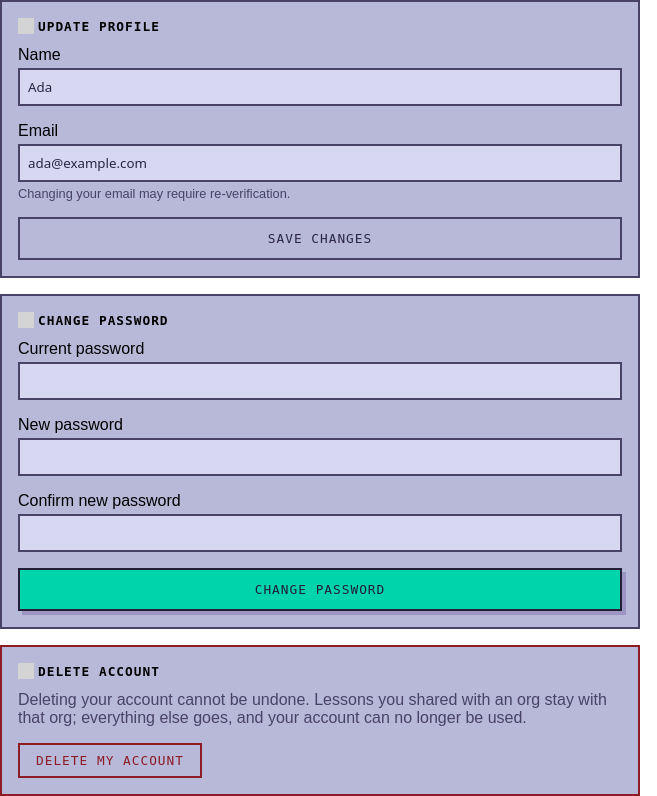
Test: what the panel says deletion will destroy › names the public count and each org that keeps its lessons
What coordinates should you click on to do the following:
click the button "Delete my account"
I would click on:
 (110, 760)
Its box is [18,743,202,778].
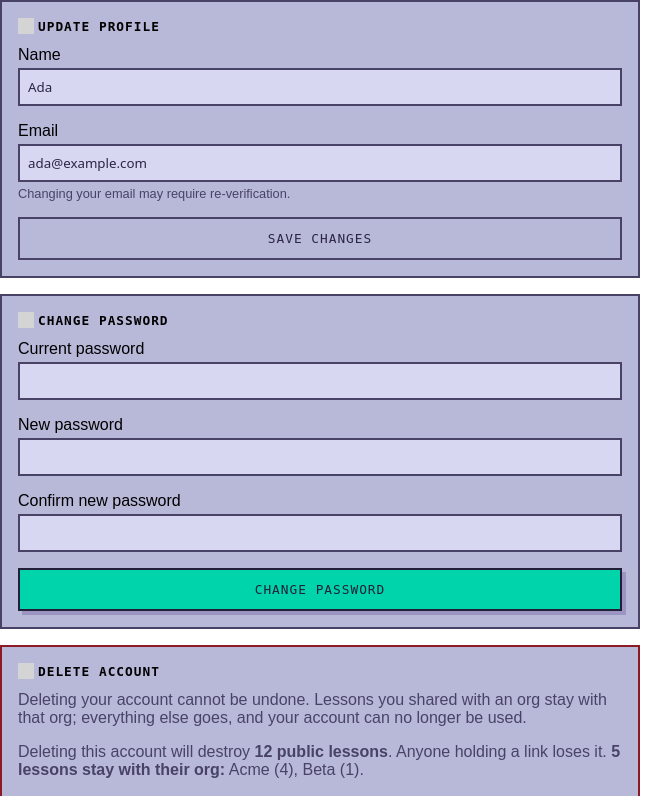
Expected: the text "12 public lessons" is shown, [255,743,388,760]
Expected: the text "5 lessons stay with their org:" is shown, [18,743,620,778]
Expected: the text "Beta (1)" is shown, [229,761,359,778]
